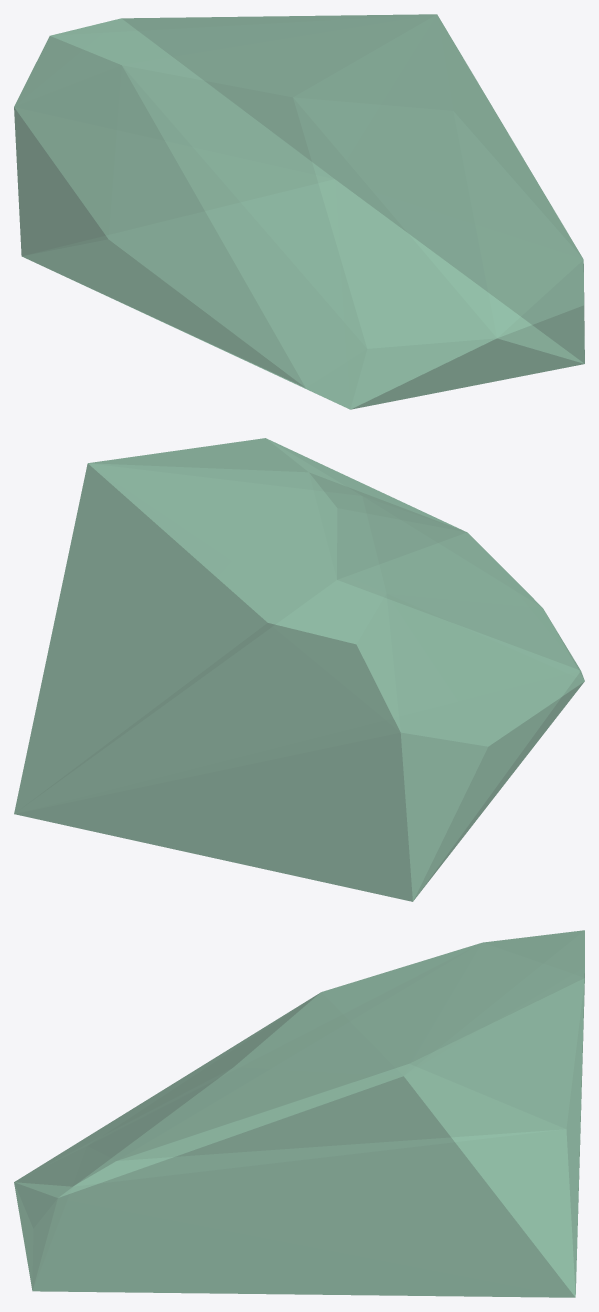
3 views of the same model, one above another, from view 1: azimuth 30°, elevation 25°; view 2: azimuth 150°, elevation 25°; view 3: azimuth 270°, elevation 25° (orthographic). The views are drawn at different scales.
Parts seen in each view (by area): view 1: Shape_IndexedFaceSet.074_Shape_IndexedFaceSet.9882; view 2: Shape_IndexedFaceSet.074_Shape_IndexedFaceSet.9882; view 3: Shape_IndexedFaceSet.074_Shape_IndexedFaceSet.9882.
Part boxes in pixels (<box>): Shape_IndexedFaceSet.074_Shape_IndexedFaceSet.9882: <box>14,14,584,409</box>; Shape_IndexedFaceSet.074_Shape_IndexedFaceSet.9882: <box>14,438,584,901</box>; Shape_IndexedFaceSet.074_Shape_IndexedFaceSet.9882: <box>14,930,584,1297</box>.
Bounding box in the file's own units: 0.1615 × 0.1012 × 0.2214.
